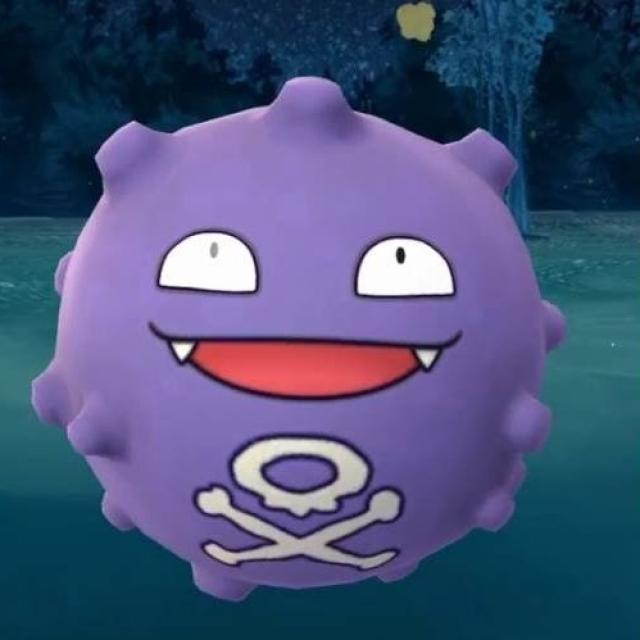Koffing: (57, 96, 555, 601)
